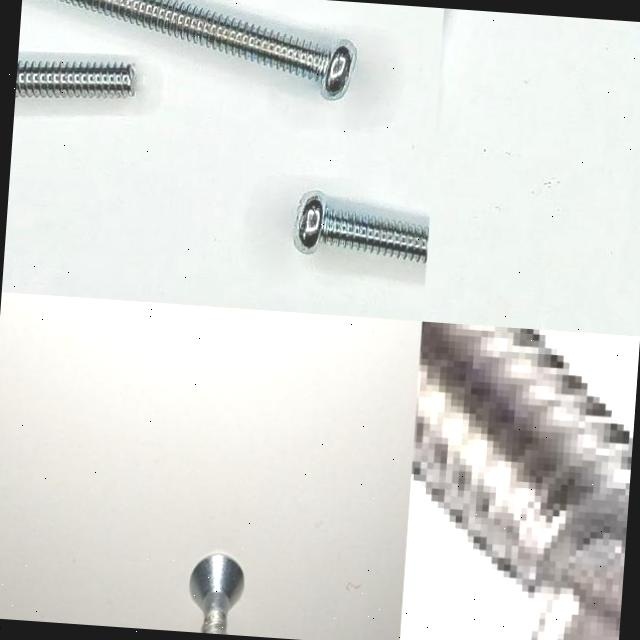Screw: (411, 321, 632, 640), (59, 0, 356, 100), (293, 192, 428, 263), (14, 51, 143, 115), (189, 555, 244, 634)
